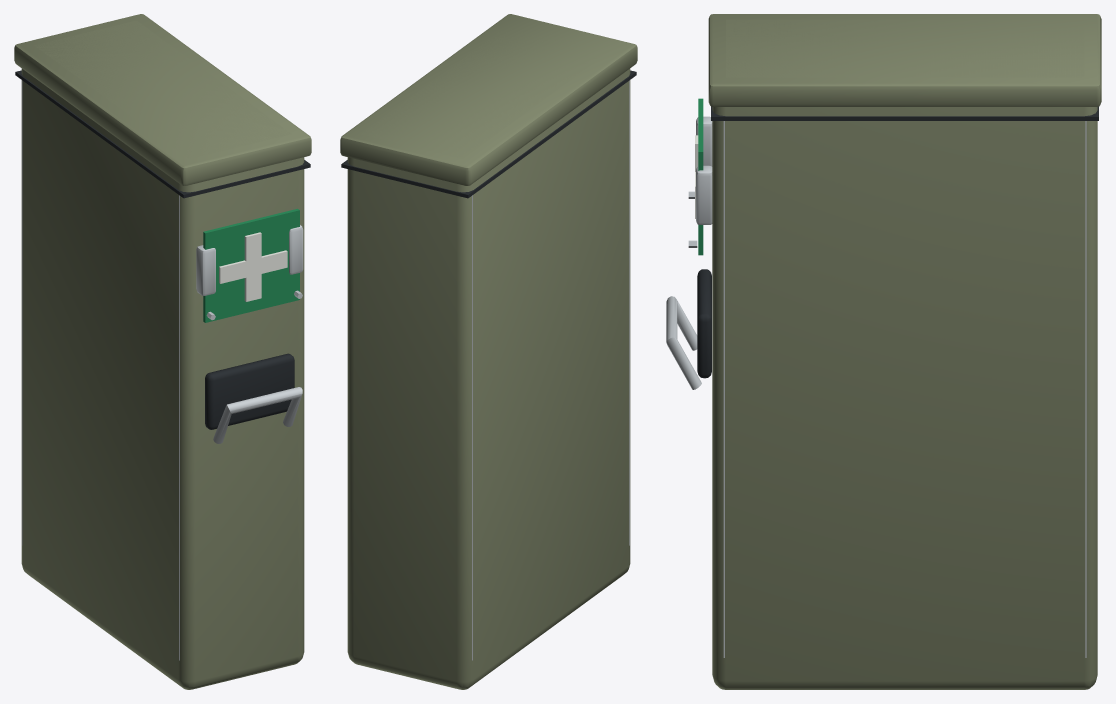
Rendered from ob_medical_case.glb.
3 views of the same model, side by side, from view 1: azimuth 30°, elevation 25°; view 2: azimuth 150°, elevation 25°; view 3: azimuth 270°, elevation 25° (orthographic). The views are drawn at different scales.
Visible parts, largest first — view 1: ob_medical_case; view 2: ob_medical_case; view 3: ob_medical_case.
Part boxes in pixels (x1,y1,x2,y2): ob_medical_case: (14,14,311,689); ob_medical_case: (340,14,637,689); ob_medical_case: (666,14,1101,689).
Bounding box in the file's own units: 0.16 × 0.62 × 0.4.
